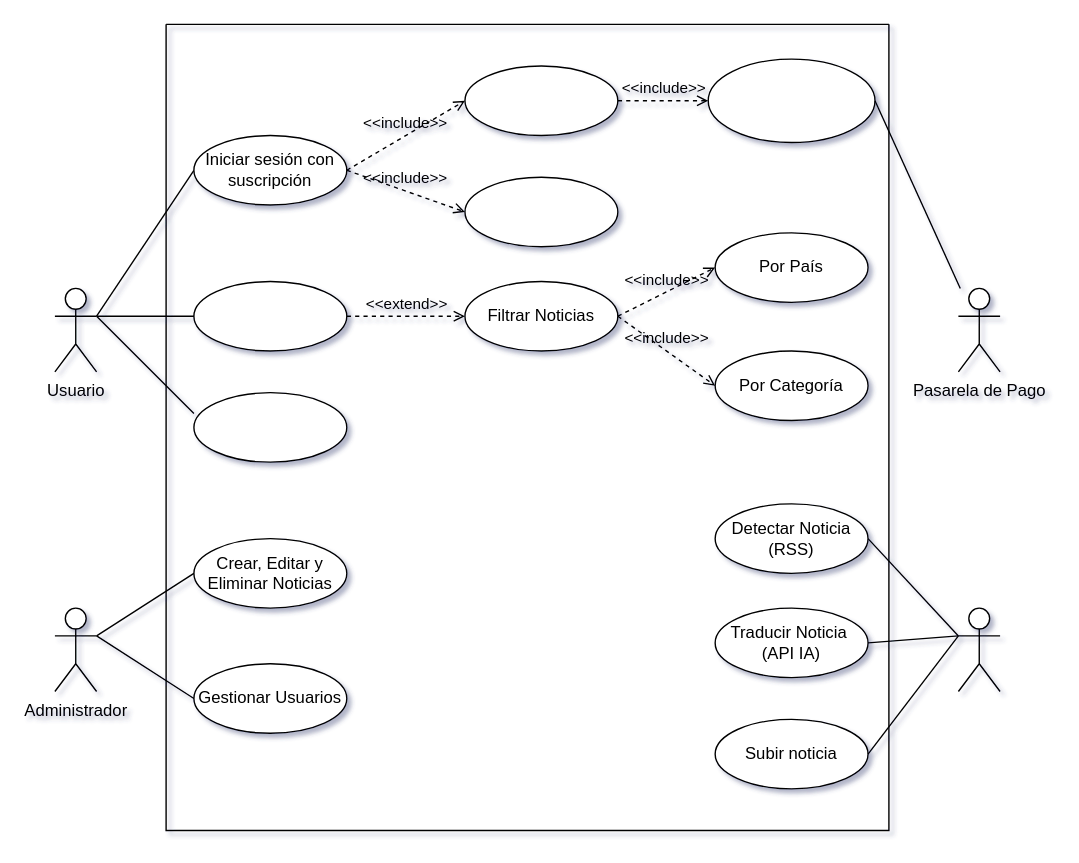
Image size: 1079x863. Some labels were removed from this diagram. Each missing label, with the centre of its shape:
Buscar Noticias: point 270,315
Leer Noticia: point 270,426
Nueva Suscripción: point 541,100
Servicios externos: point 978,649
Suscripción ya creada: point 541,211
Validar información de pago: point 791,100
